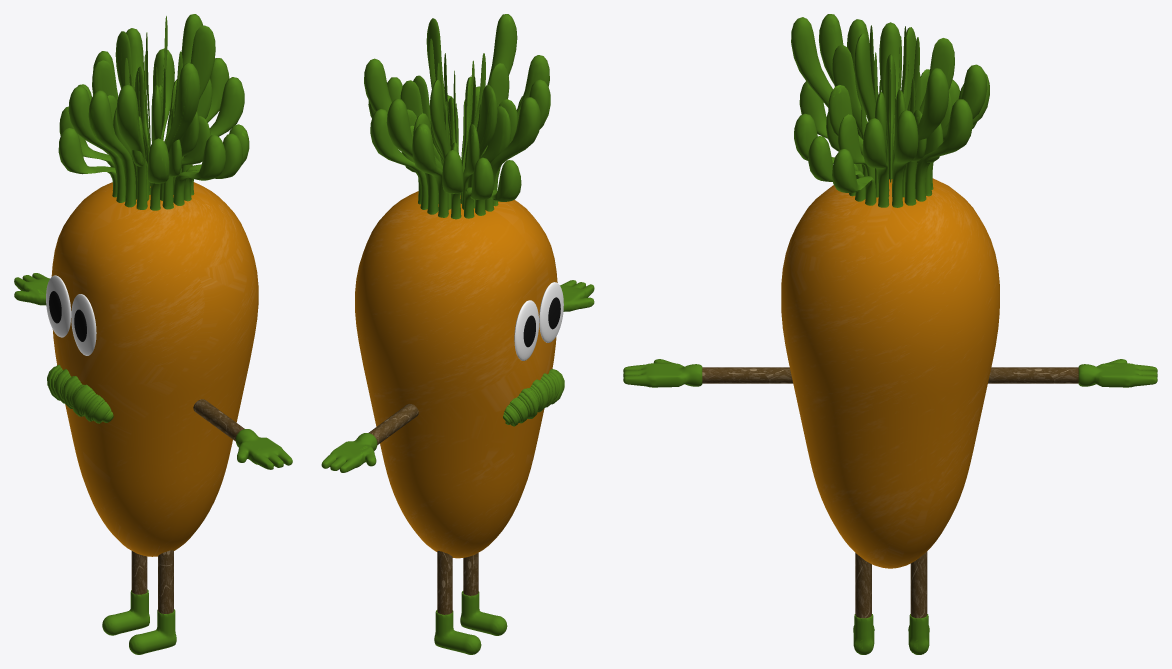
File: carrot_character.glb
The picture shows the model from 3 angles, left to right: view 1: azimuth 30°, elevation 25°; view 2: azimuth 150°, elevation 25°; view 3: azimuth 270°, elevation 25°; orthographic projection. The views are drawn at different scales.
Visible parts, largest first — view 1: CARROT; view 2: CARROT; view 3: CARROT.
Part boxes in pixels (x1,y1,x2,y2): CARROT: (14, 14, 292, 654); CARROT: (321, 14, 594, 654); CARROT: (623, 14, 1157, 654).
Bounding box in the file's own units: 0.7606 × 2.4 × 1.82.
Materials: 5 (5 with a texture image).
